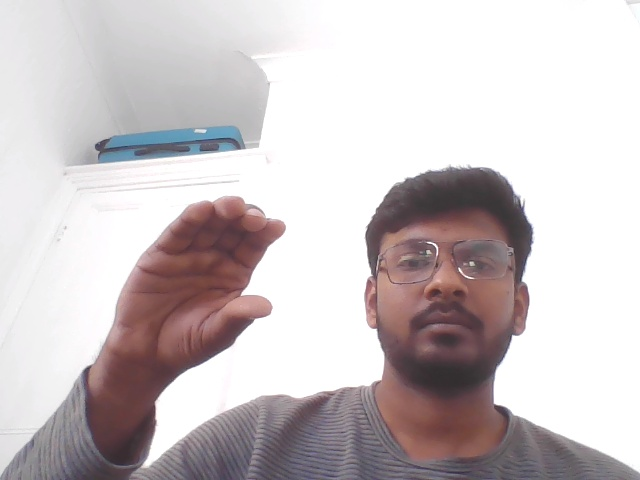No: (75, 169, 302, 407)
